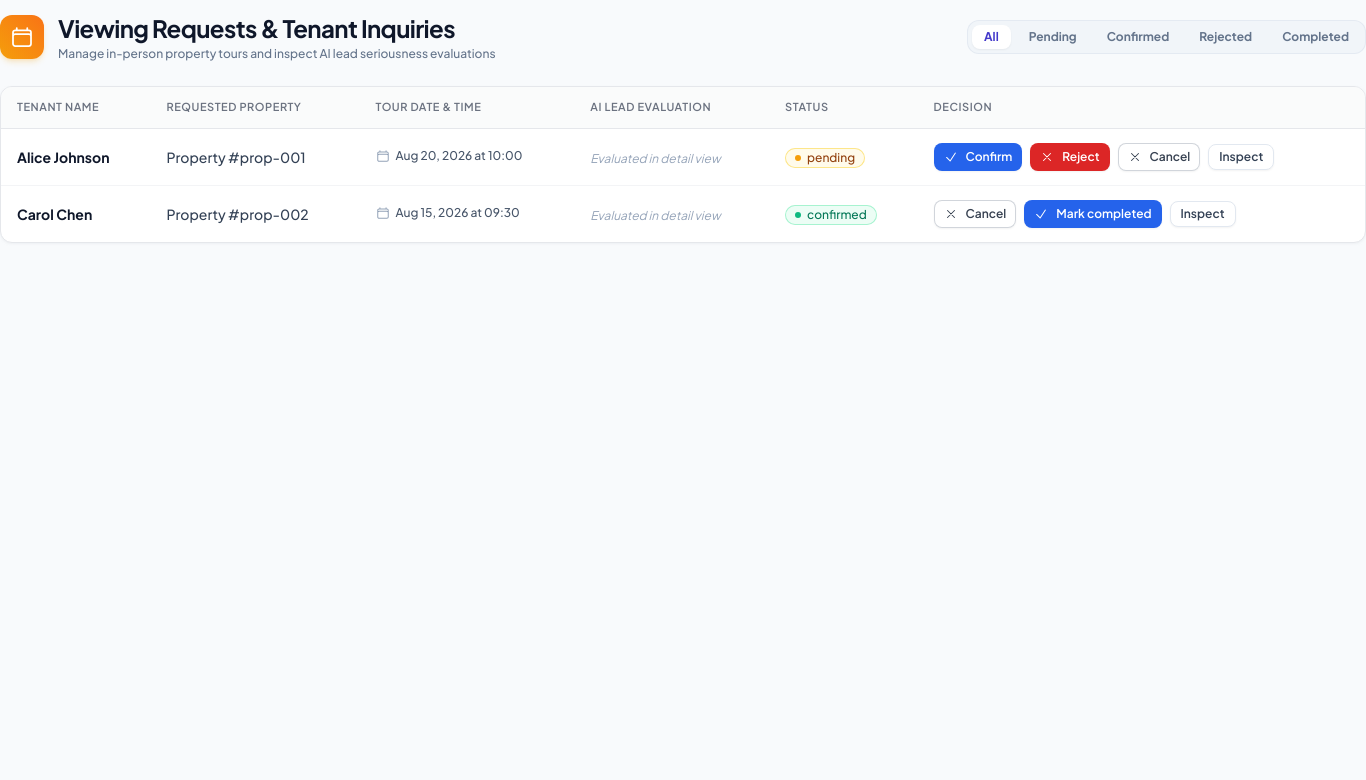
ViewingRequestsPage › updates the status and refreshes on success
The width and height of the screenshot is (1366, 780).
Expected: the link "Alice Johnson" is shown, [17,148,110,166]
Step 1. Click the button "Confirm" → (978, 156), box [934,142,1022,170]
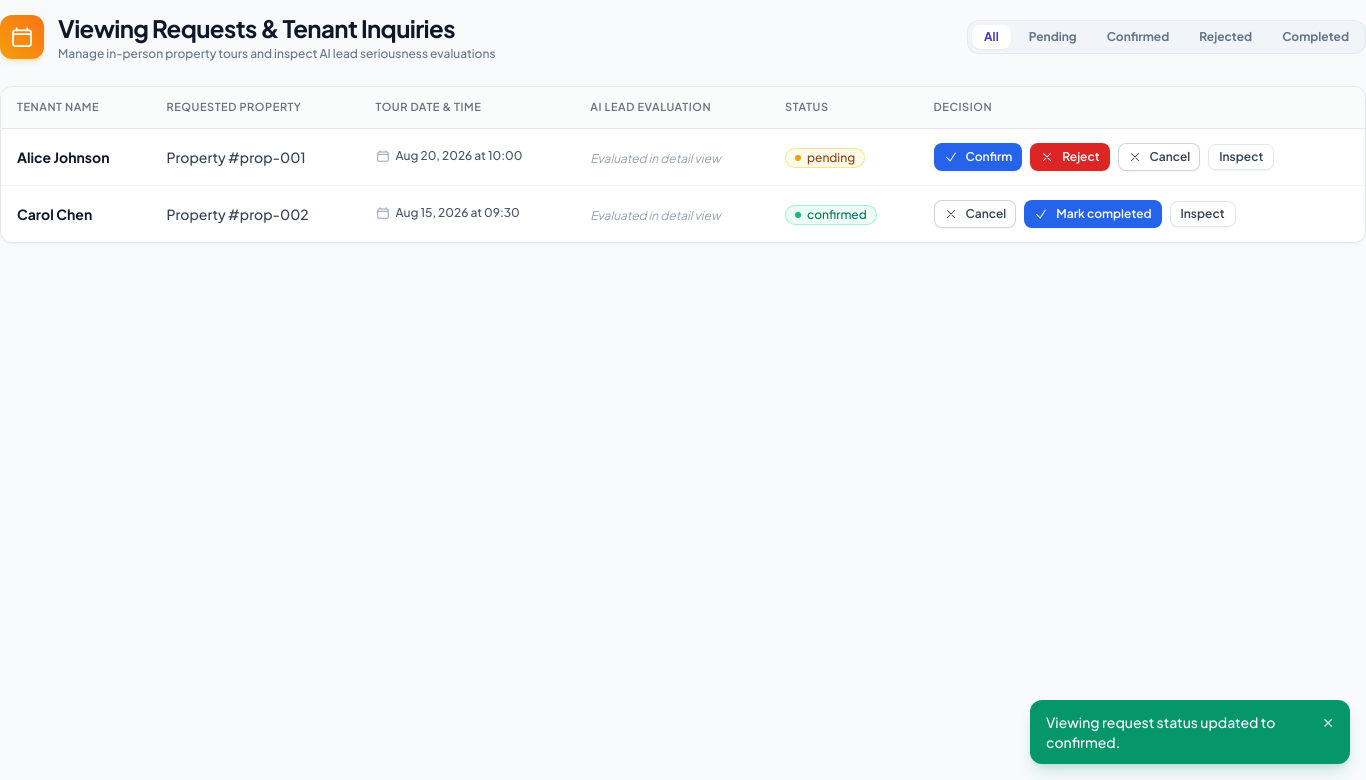
Expected: the text "Viewing request status updated to confirmed." is shown, [1046,712,1310,752]
